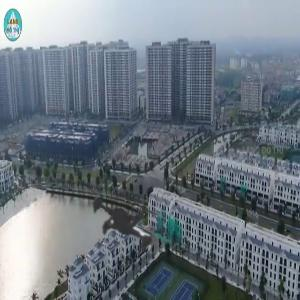drone: (52, 158, 193, 299)
